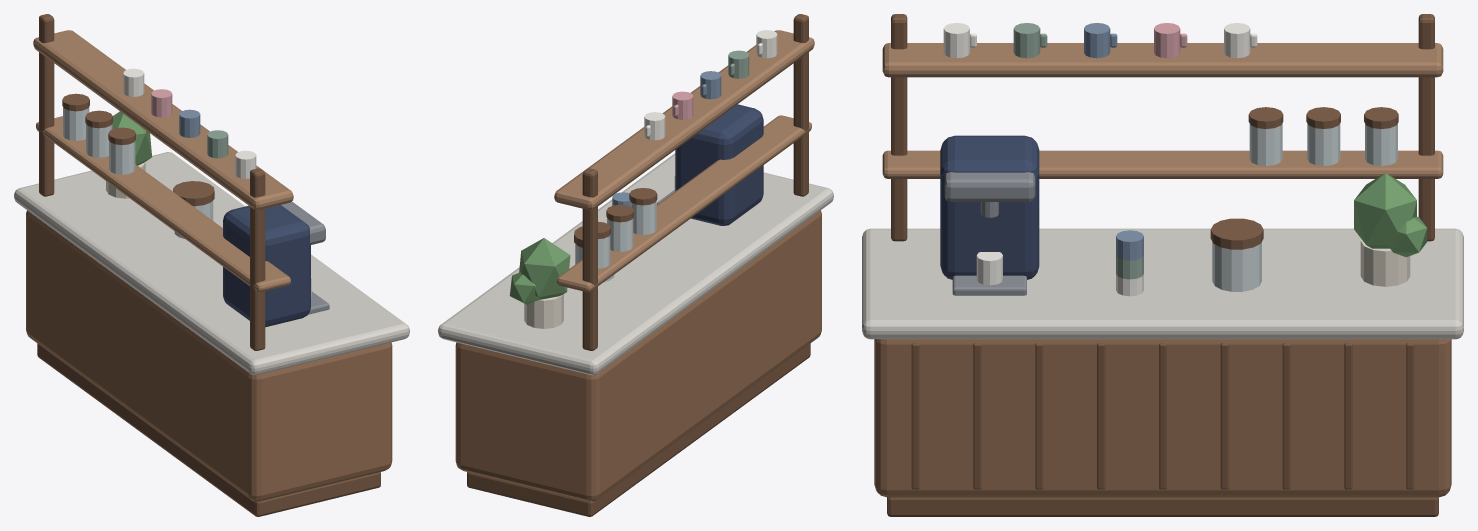
Rendered from pantry.glb.
3 views of the same model, side by side, from view 1: azimuth 30°, elevation 25°; view 2: azimuth 150°, elevation 25°; view 3: azimuth 270°, elevation 25° (orthographic). The views are drawn at different scales.
Visible parts, largest first — view 1: Pantry; view 2: Pantry; view 3: Pantry.
Part boxes in pixels (box(x1,y1,x2,y2)): Pantry: box(14, 14, 409, 516); Pantry: box(438, 14, 833, 516); Pantry: box(862, 14, 1463, 516).
Bounding box in the file's own units: 0.56 × 1.15 × 1.46.
